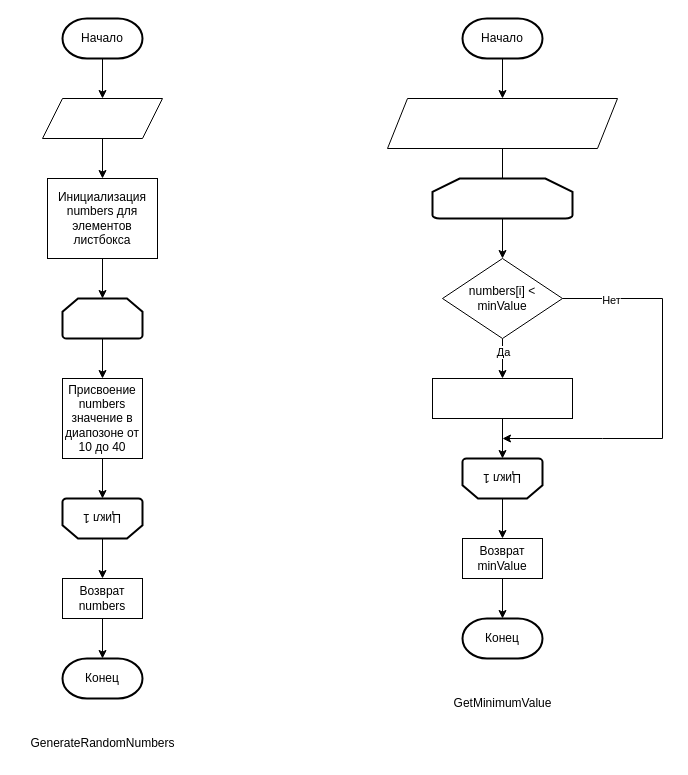
The diagram is 688 pixels wide and 775 high, and some of its shapes have lost their labels. Here are the shapes that lost their labels. From the top down, the centre of each, then its label:
the point at 102,118: Ввод rnd
the point at 502,123: Ввод minValue и присвоение ему первого значения из листбокса
the point at 502,198: Цикл 1 i=0(1)numbers.Count
the point at 102,318: Цикл 1 i=0(1)count
the point at 502,398: minValue = numbers[i];
